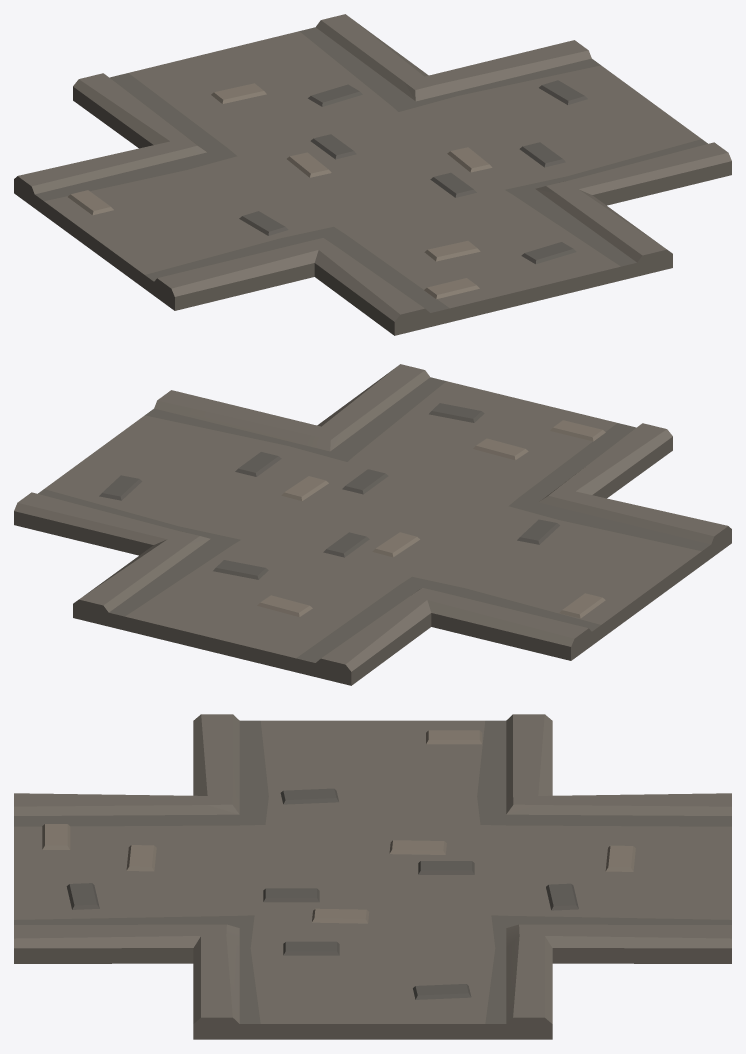
File: SM_Env_Path_Junction_01.fbx
3 views of the same model, one above another, from view 1: azimuth 30°, elevation 25°; view 2: azimuth 150°, elevation 25°; view 3: azimuth 270°, elevation 25° (orthographic). The views are drawn at different scales.
Parts seen in each view (by area): view 1: SM_Env_Path_Junction_01; view 2: SM_Env_Path_Junction_01; view 3: SM_Env_Path_Junction_01.
Boxes of the visible parts, left/top/right/bottom form: SM_Env_Path_Junction_01: left=14, top=14, right=731, bottom=335; SM_Env_Path_Junction_01: left=14, top=364, right=731, bottom=685; SM_Env_Path_Junction_01: left=14, top=714, right=731, bottom=1039.
Size of the model in its own units: 500 by 17.05 by 500.
